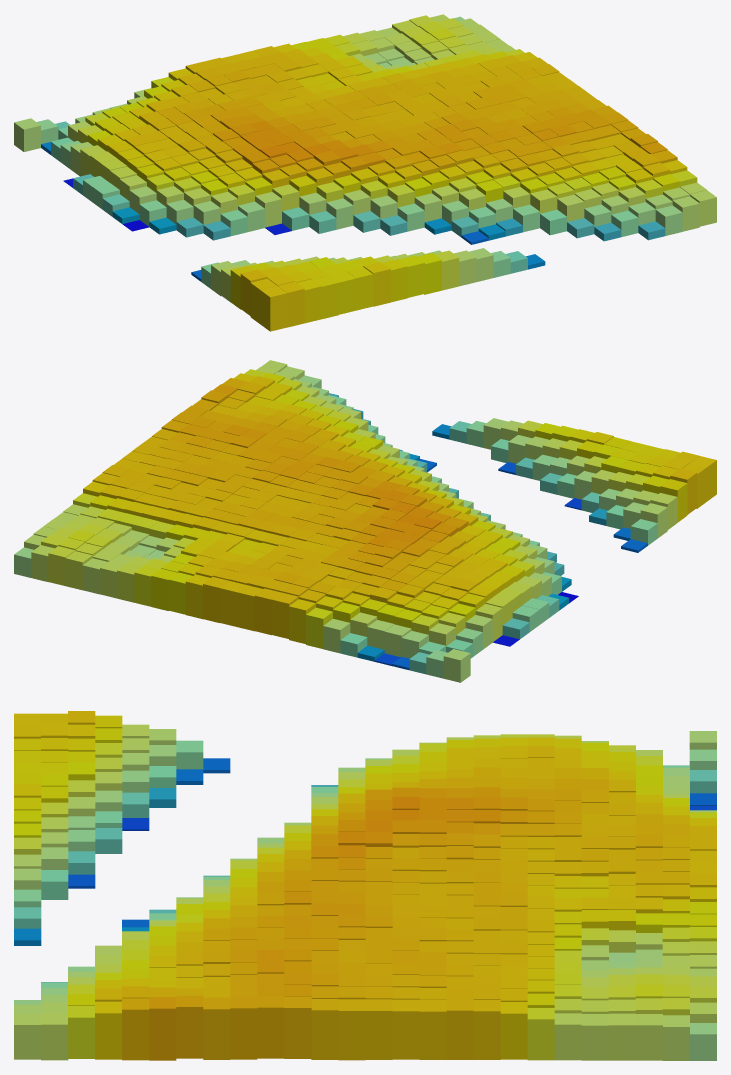
File: population.glb
The picture shows the model from 3 angles, top to bottom: view 1: azimuth 30°, elevation 25°; view 2: azimuth 150°, elevation 25°; view 3: azimuth 270°, elevation 25°; orthographic projection. The views are drawn at different scales.
Visible parts, largest first — view 1: population; view 2: population; view 3: population.
Part boxes in pixels (x1,y1,x2,y2): population: (14, 14, 716, 331); population: (14, 360, 716, 682); population: (14, 711, 716, 1060).
Size of the model in its own units: 2600 by 231 by 2584.
